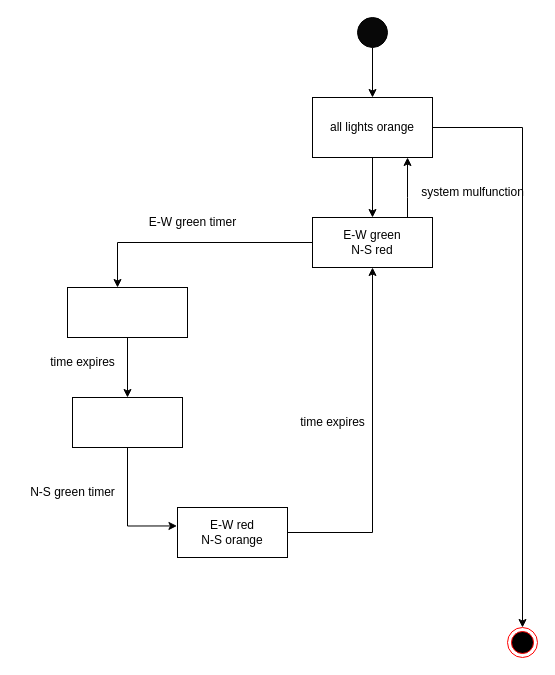
This 555x675 diagram has some shape labels left out. Each missing label, with the centre of its shape:
E-W orange N-S red: the point at 127,312
E-W red N-S green: the point at 127,422
